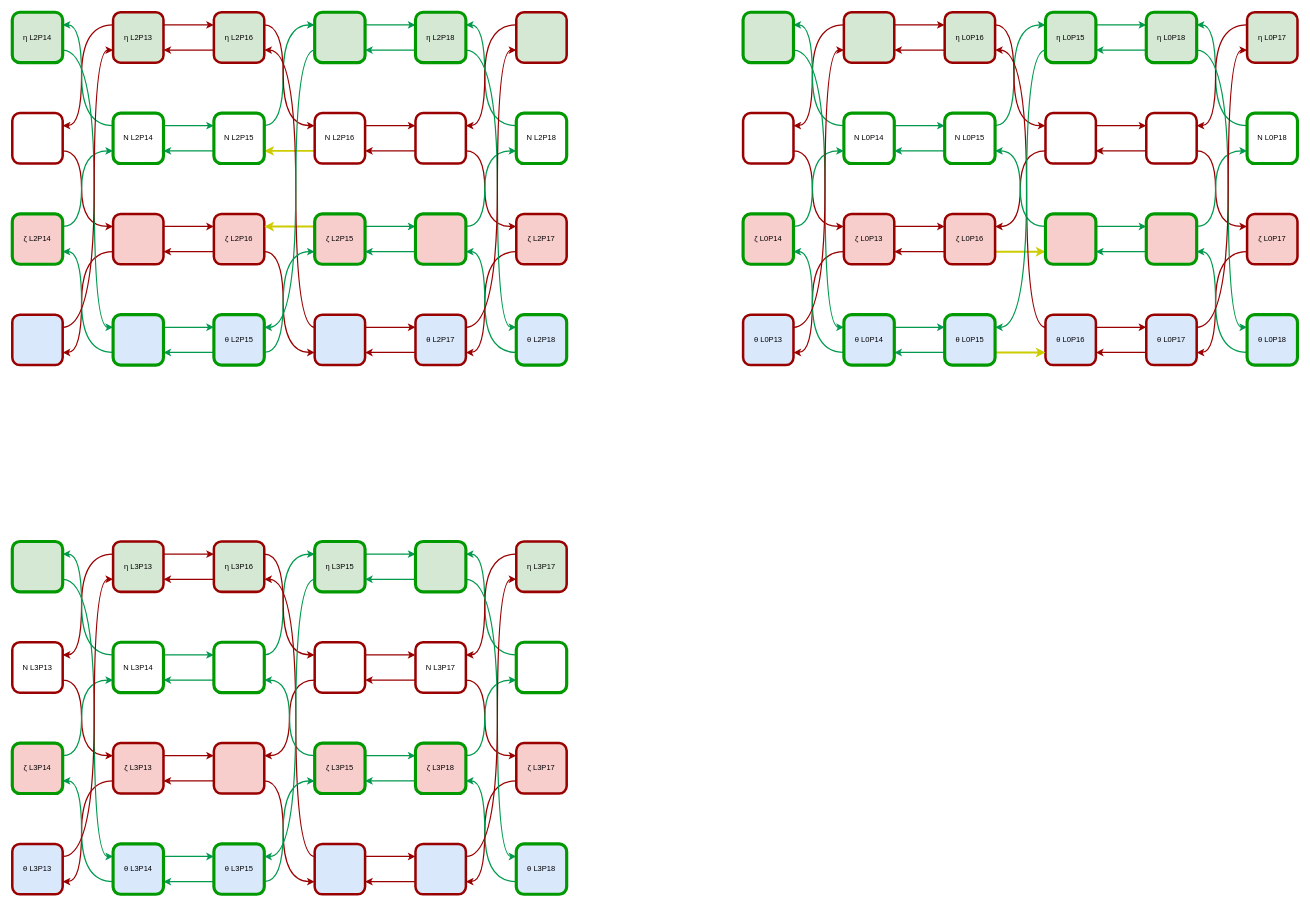
Image size: 1310x907. Some labels were removed from this diagram. The shapes that lost their labels are listed below. From the top down, each one's centre as x and y in pixels, then its label:
At (339,37): "η L2P15".
At (541,37): "η L2P17".
At (768,37): "η L0P14".
At (868,37): "η L0P13".
At (37,138): "N L2P13".
At (440,138): "N L2P17".
At (768,138): "N L0P13".
At (1070,138): "N L0P16".
At (1171,138): "N L0P17".
At (138,238): "ζ L2P13".
At (440,239): "ζ L2P18".
At (1070,239): "ζ L0P15".
At (1171,239): "ζ L0P18".
At (37,339): "θ L2P13".
At (138,339): "θ L2P14".
At (339,339): "θ L2P16".
At (37,566): "η L3P14".
At (440,566): "η L3P18".
At (239,667): "N L3P15".
At (339,667): "N L3P16".
At (541,667): "N L3P18".
At (238,768): "ζ L3P16".
At (339,868): "θ L3P16".
At (440,868): "θ L3P17".
